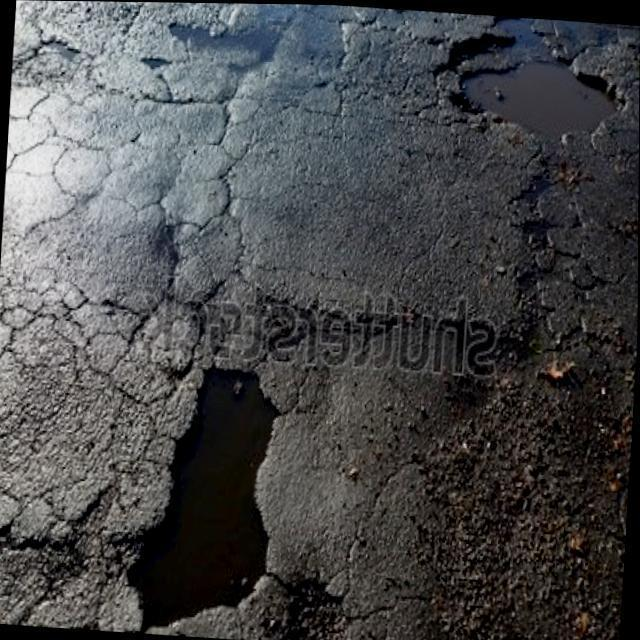Pothole: (130, 364, 279, 629), (446, 20, 624, 141), (251, 564, 360, 640)
